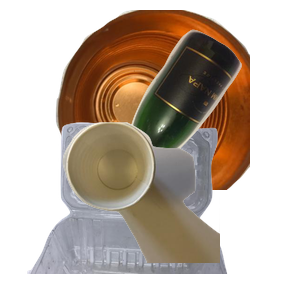glass: (87, 27, 300, 207)
metal: (53, 10, 293, 190)
plastic: (25, 120, 245, 300)
trash: (60, 120, 300, 300)
